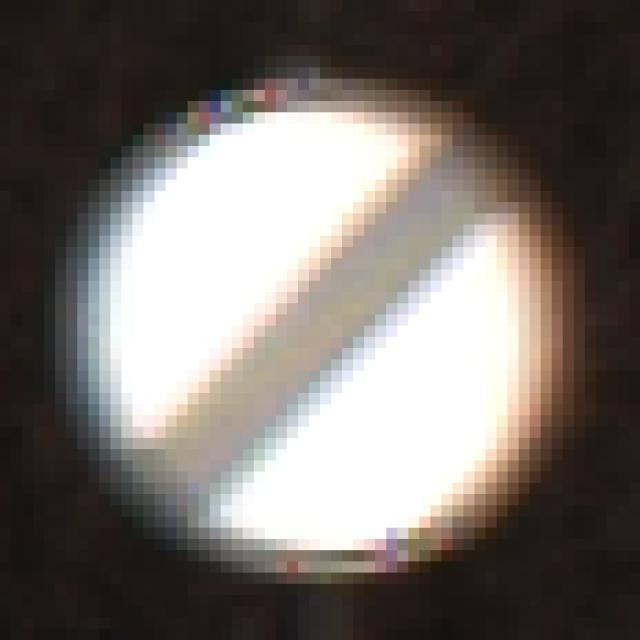restriction ends: (69, 76, 567, 570)
